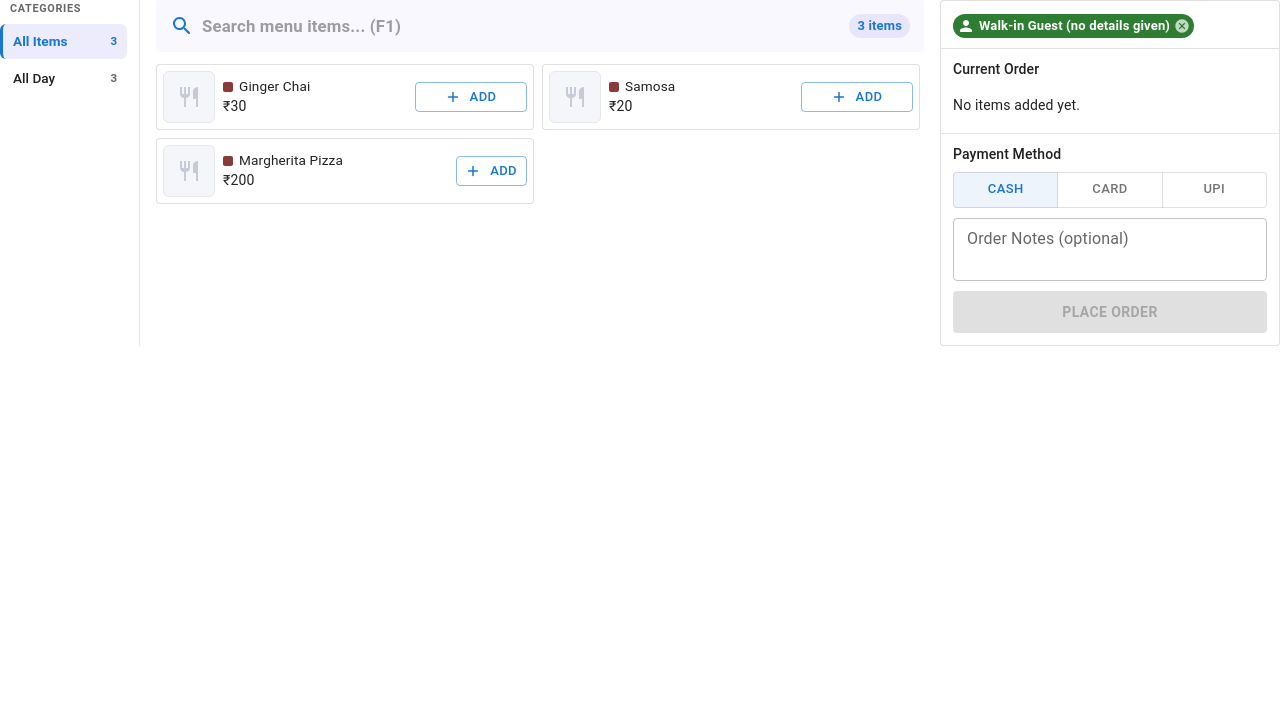
PosOrderBuilder - building the cart › applies a selected option to the cart at the adjusted price
This screenshot has width=1280, height=720.
Expected: the text "Margherita Pizza" is shown, 239,152 -> 343,169
Click the button "Add" next to "Margherita Pizza". click: [492, 171]
box: 456,156 -> 527,186
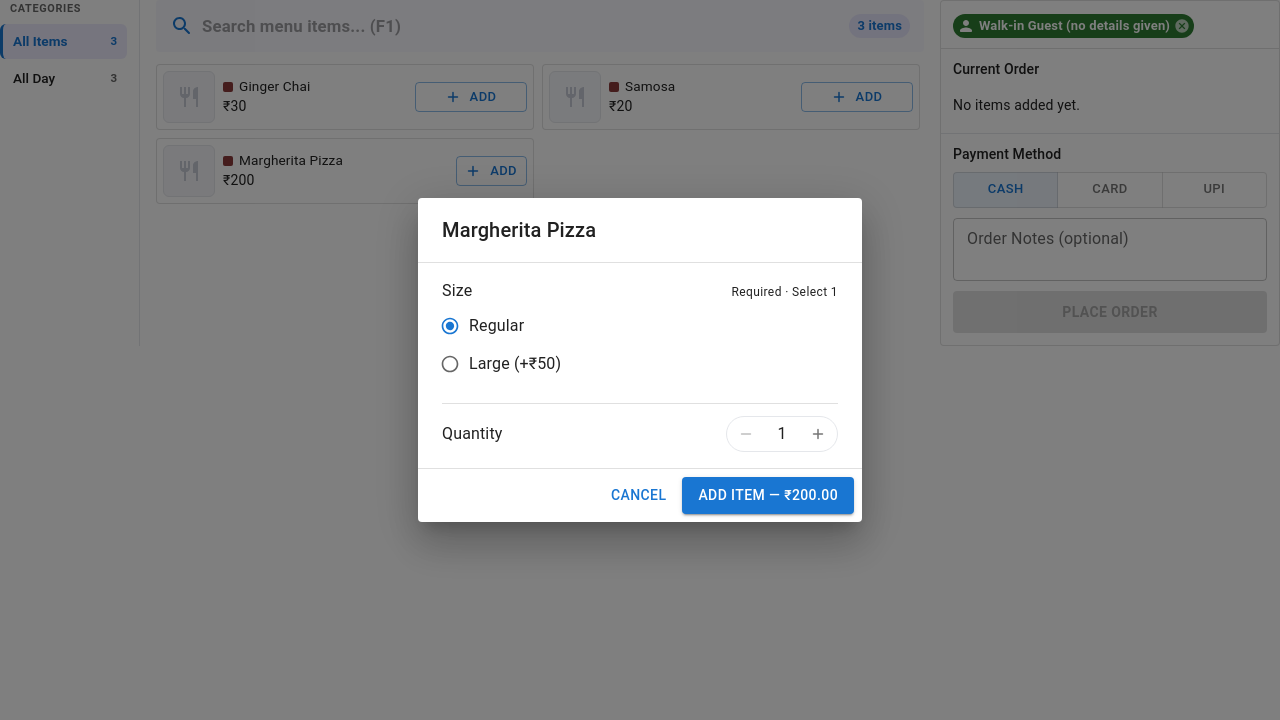
Expected: the text "Required · Select 1" is shown, 731,283 -> 838,303
Click the radio button labelled "Large (+₹50)". click: [501, 364]
box: 440,354 -> 561,374
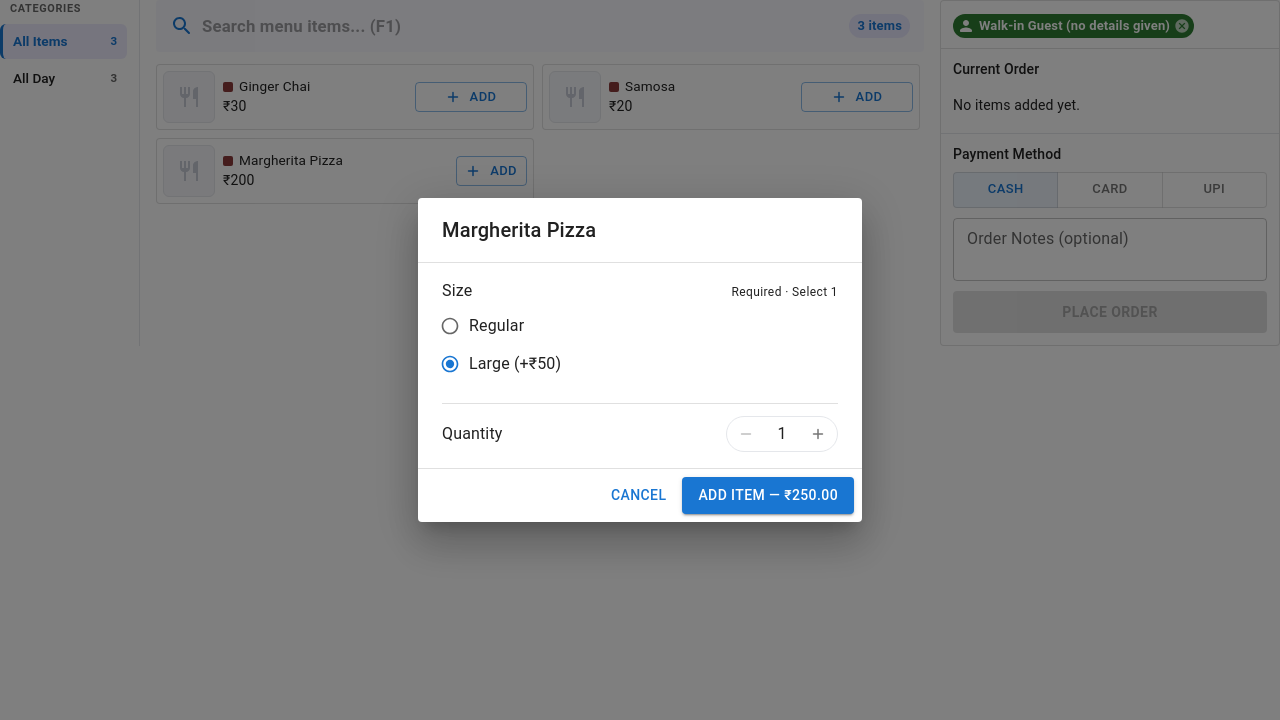
Click the button "Add Item — ₹250.00". click: [768, 496]
box: 682,477 -> 854,514
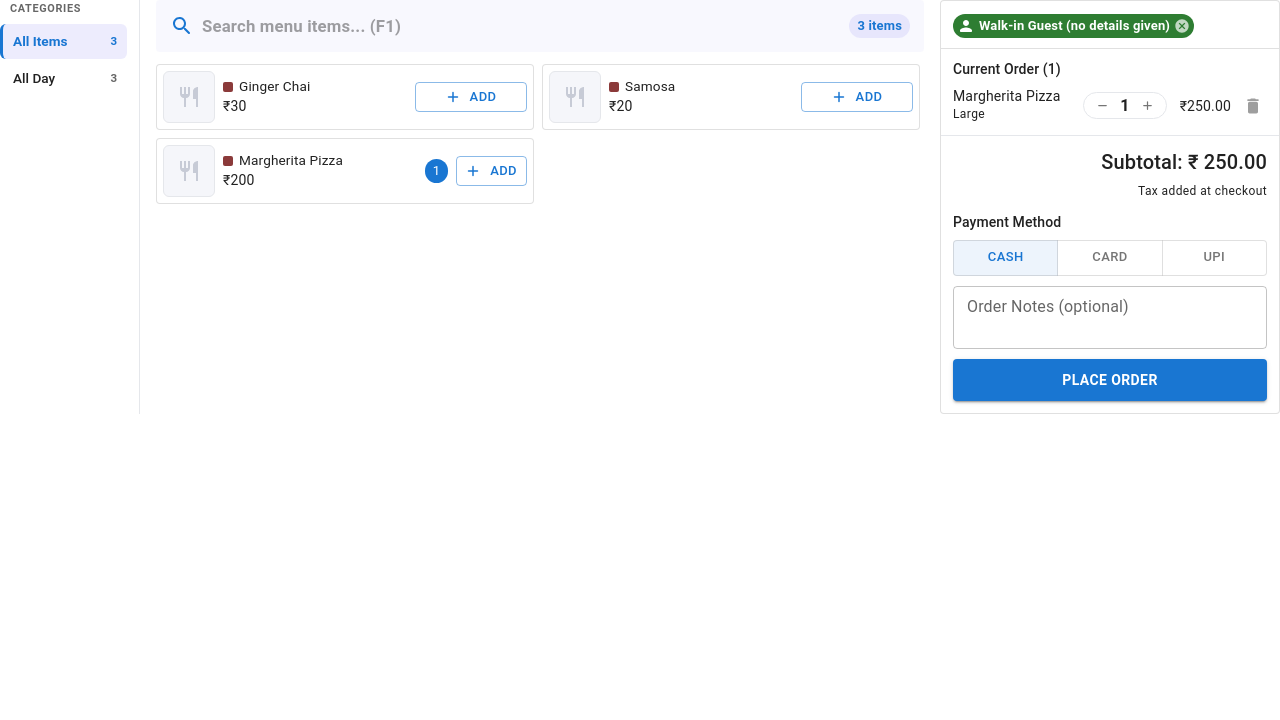
Expected: the text "Large" is shown, 953,107 -> 985,121
Expected: the heading "Subtotal: ₹ 250.00" is shown, 1101,150 -> 1267,174
